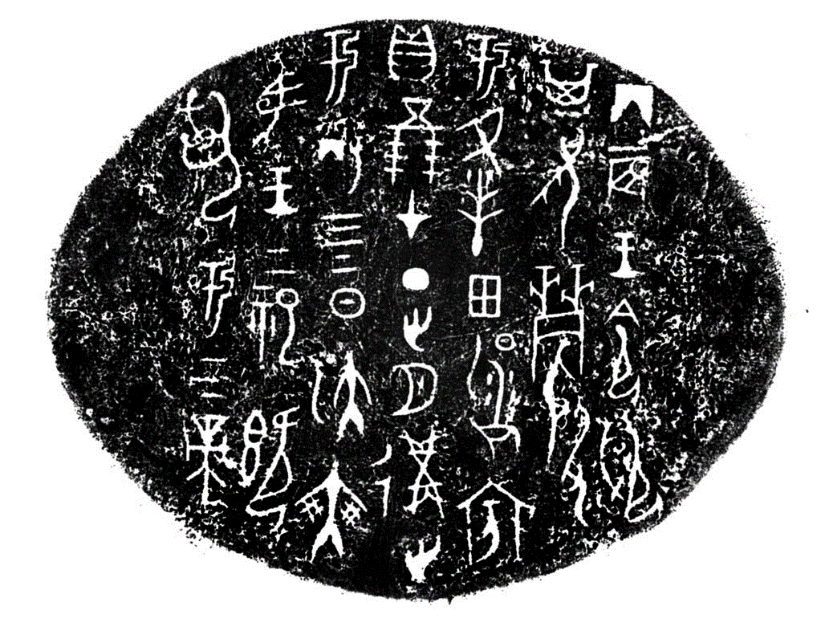char: (171, 75, 244, 250), (594, 411, 702, 523), (449, 111, 522, 265), (245, 258, 327, 392), (228, 404, 301, 553), (540, 377, 595, 550), (438, 475, 538, 566), (303, 349, 391, 450), (351, 427, 438, 525), (302, 468, 373, 587), (459, 331, 531, 445), (580, 213, 693, 278), (164, 411, 226, 527), (241, 36, 308, 143), (526, 272, 593, 366), (391, 99, 459, 189), (536, 132, 593, 239), (448, 22, 524, 101), (597, 332, 675, 406), (358, 361, 462, 413), (605, 131, 683, 200), (534, 36, 604, 111), (384, 7, 454, 81), (597, 71, 693, 124), (185, 260, 253, 334), (313, 35, 374, 117), (309, 207, 371, 281), (301, 129, 381, 185), (188, 354, 244, 418), (588, 286, 669, 329), (397, 537, 447, 602), (309, 295, 390, 329), (383, 313, 455, 346), (257, 167, 301, 221), (381, 200, 438, 239), (460, 271, 511, 314), (403, 260, 445, 296)
